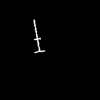double_crochet: (34, 20, 42, 52)
